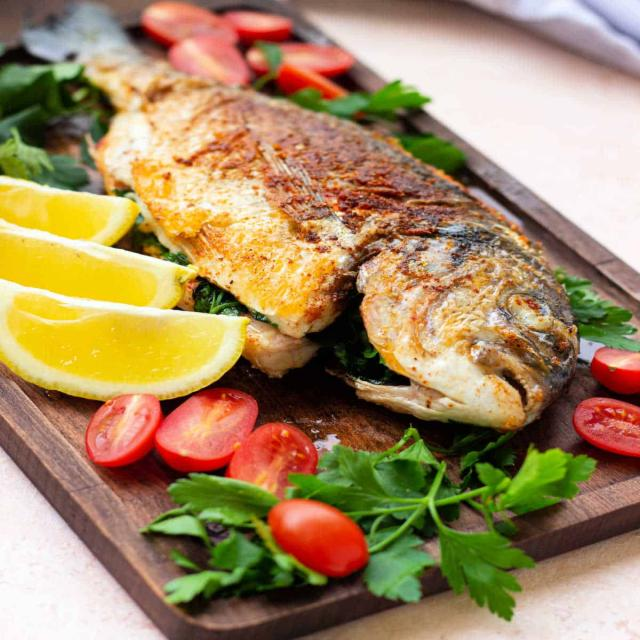Peixe: (25, 5, 581, 433)
